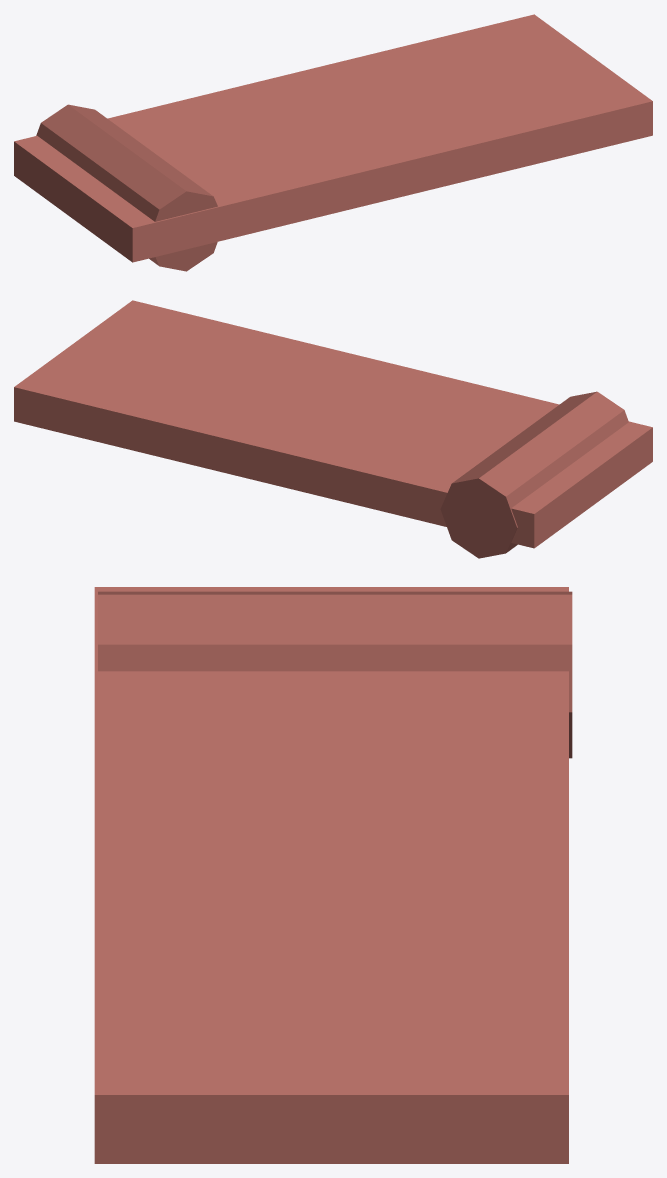
The model's file is deploy_sleepbag.glb.
3 views of the same model, one above another, from view 1: azimuth 30°, elevation 25°; view 2: azimuth 150°, elevation 25°; view 3: azimuth 270°, elevation 25° (orthographic). The views are drawn at different scales.
Parts seen in each view (by area): view 1: deploy_sleepbag; view 2: deploy_sleepbag; view 3: deploy_sleepbag.
Boxes of the visible parts, left/top/right/bottom form: deploy_sleepbag: left=14, top=14, right=652, bottom=271; deploy_sleepbag: left=14, top=300, right=652, bottom=558; deploy_sleepbag: left=94, top=587, right=572, bottom=1163.
Size of the model in its own units: 1.9 by 0.28 by 0.755.
